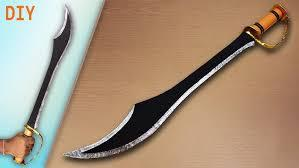knife: (63, 22, 257, 163)
